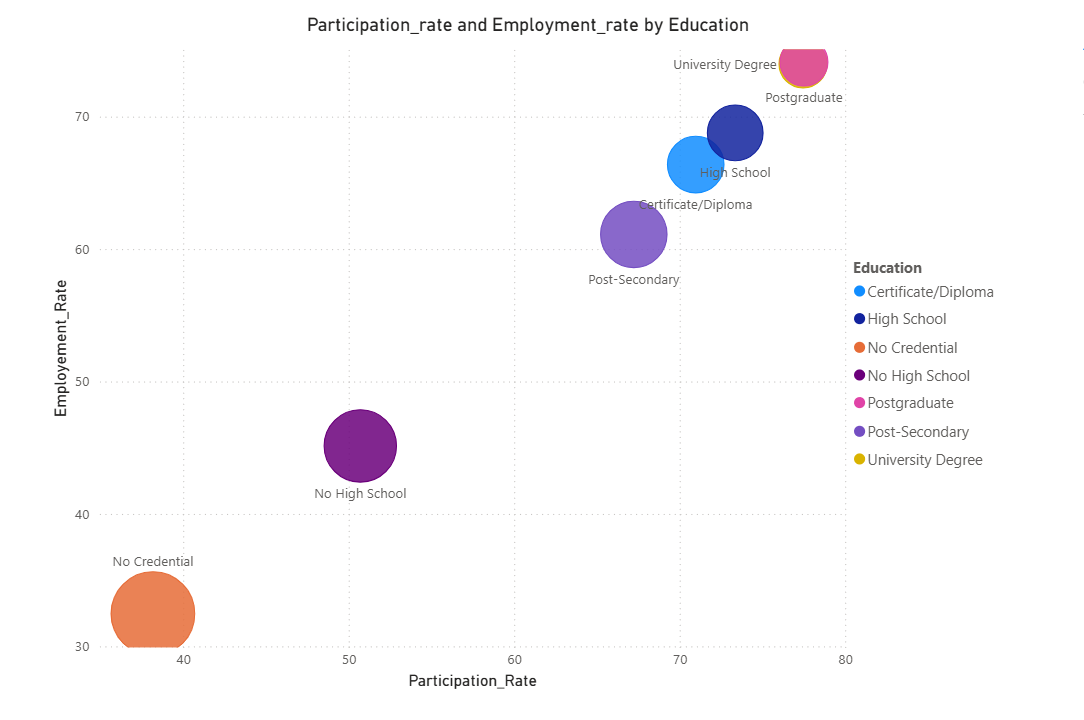

This screenshot's page, from the dashboard's own definition file:
{"tool":"powerbi","page":{"name":"Participation vs Employment","canvas":[1280,720],"ordinal":3},"visuals":[{"type":"scatterChart","title":"Participation_rate and Employment_rate by Education","fields":{"X":["Avg(final_labour_force.participation_rate)"],"Y":["Avg(final_labour_force.employment_rate)"],"Category":["final_labour_force.education"],"Series":["final_labour_force.education"],"Size":["Avg(final_labour_force.unemployment_rate)"]},"box":[72.1,20.6,872,615.7],"z":0},{"type":"textbox","box":[1006.9,29.9,272.8,483.9],"z":1000}]}

Visuals, with their boxes on the page's 1280x720 design canvas (x1, y1, x2, y2). These are canvas units, not pixel positions in the 1084x720 screenshot, which may show the page scaled, cropped or inside an application window:
"Participation_rate and Employment_rate by Education" scatterChart: 72:21:944:636
textbox: 1007:30:1280:514
